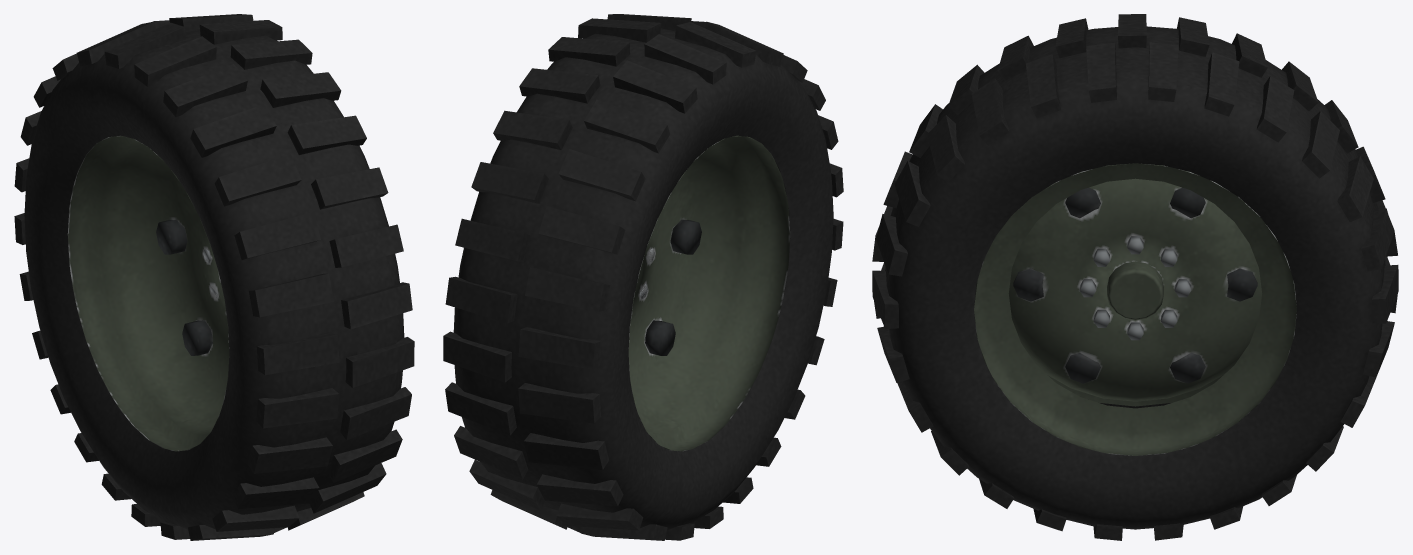
Rendered from mule_wheel.glb.
3 renders of one model, left to right at view 1: azimuth 30°, elevation 25°; view 2: azimuth 150°, elevation 25°; view 3: azimuth 270°, elevation 25°, orthographic.
Parts seen in each view (by area): view 1: mule_wheel; view 2: mule_wheel; view 3: mule_wheel.
Boxes of the visible parts, <box> form: mule_wheel: <box>14,14,414,540</box>; mule_wheel: <box>443,14,843,540</box>; mule_wheel: <box>872,14,1398,540</box>.
Size of the model in its own units: 0.288 by 0.8312 by 0.8312.
Materials: 1 (1 with a texture image).
